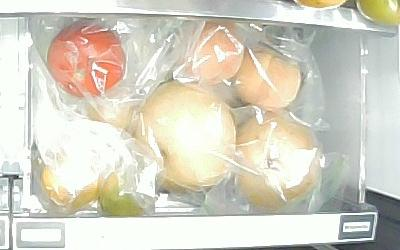peach_vinyl: (233, 45, 304, 110), (180, 19, 246, 85)
pear_vinyl: (135, 80, 236, 191), (231, 108, 324, 211)
tangerine_vinyl: (41, 164, 101, 211), (99, 172, 152, 216)
tomato_vinyl: (47, 20, 125, 97)
